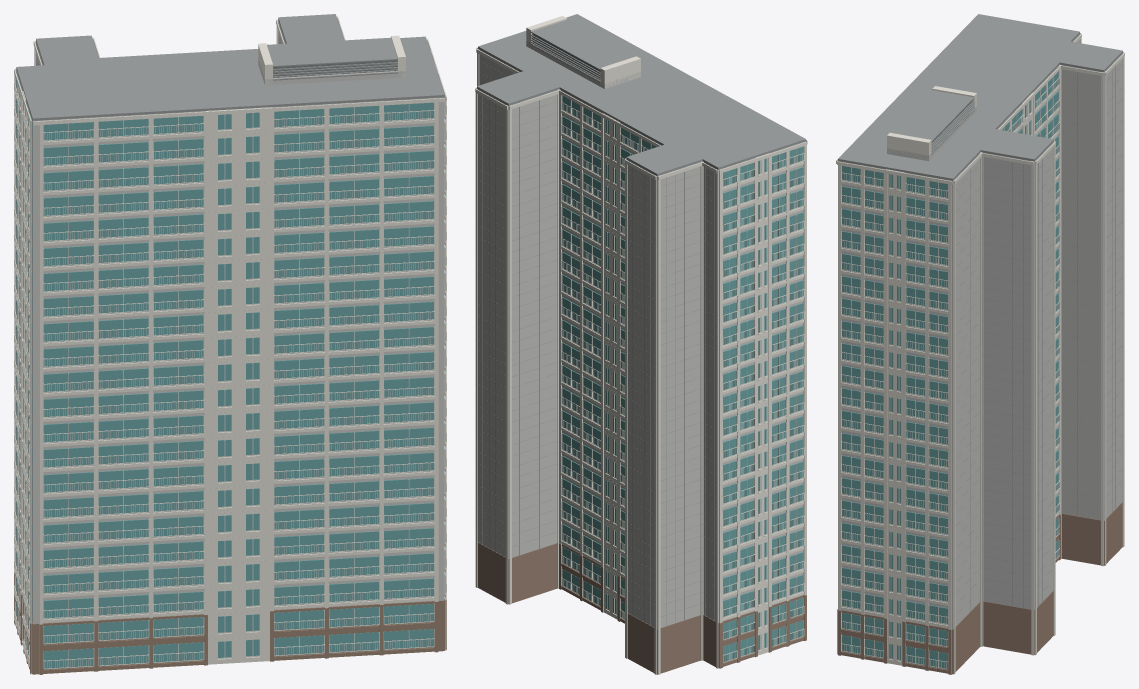
File: bespoke-jamsil-els-159.glb
The picture shows the model from 3 angles, left to right: view 1: azimuth 30°, elevation 25°; view 2: azimuth 150°, elevation 25°; view 3: azimuth 270°, elevation 25°; orthographic projection. The views are drawn at different scales.
Parts seen in each view (by area): view 1: Els159_editable_Els159_turquoise_balcony_glazing, Els159_white_exact_chunk_0, Els159_white_exact_chunk_2, Els159_editable_Els159_light_grey_solid_wall, Els159_white_exact_chunk_1, Els159_editable_Els159_modest_grey_flat_roof_caps, Els159_white_exact_chunk_3, Els159_editable_Els159_muted_ground_wall, Els159_white_exact_chunk_5, Els159_editable_Els159_narrow_charcoal_service_strips; view 2: Els159_editable_Els159_light_grey_solid_wall, Els159_editable_Els159_turquoise_balcony_glazing, Els159_editable_Els159_modest_grey_flat_roof_caps, Els159_white_exact_chunk_0, Els159_white_exact_chunk_4, Els159_editable_Els159_muted_ground_wall, Els159_white_exact_chunk_5; view 3: Els159_editable_Els159_light_grey_solid_wall, Els159_editable_Els159_turquoise_balcony_glazing, Els159_editable_Els159_modest_grey_flat_roof_caps, Els159_white_exact_chunk_3, Els159_white_exact_chunk_4, Els159_editable_Els159_muted_ground_wall, Els159_white_exact_chunk_5.
Boxes of the visible parts, x1=… form: Els159_editable_Els159_turquoise_balcony_glazing: x1=16, y1=74, x2=444, y2=668; Els159_white_exact_chunk_0: x1=14, y1=68, x2=271, y2=673; Els159_white_exact_chunk_2: x1=39, y1=105, x2=434, y2=674; Els159_editable_Els159_light_grey_solid_wall: x1=16, y1=20, x2=444, y2=639; Els159_white_exact_chunk_1: x1=43, y1=119, x2=204, y2=666; Els159_editable_Els159_modest_grey_flat_roof_caps: x1=16, y1=14, x2=444, y2=120; Els159_white_exact_chunk_3: x1=33, y1=65, x2=446, y2=650; Els159_editable_Els159_muted_ground_wall: x1=14, y1=573, x2=446, y2=674; Els159_white_exact_chunk_5: x1=33, y1=35, x2=405, y2=85; Els159_editable_Els159_narrow_charcoal_service_strips: x1=273, y1=60, x2=397, y2=76; Els159_editable_Els159_light_grey_solid_wall: x1=477, y1=41, x2=805, y2=632; Els159_editable_Els159_turquoise_balcony_glazing: x1=562, y1=95, x2=803, y2=661; Els159_editable_Els159_modest_grey_flat_roof_caps: x1=477, y1=14, x2=805, y2=627; Els159_white_exact_chunk_0: x1=701, y1=141, x2=807, y2=668; Els159_white_exact_chunk_4: x1=475, y1=47, x2=638, y2=619; Els159_editable_Els159_muted_ground_wall: x1=478, y1=542, x2=806, y2=674; Els159_white_exact_chunk_5: x1=526, y1=16, x2=703, y2=674; Els159_editable_Els159_light_grey_solid_wall: x1=838, y1=34, x2=1122, y2=643; Els159_editable_Els159_turquoise_balcony_glazing: x1=842, y1=71, x2=1058, y2=668; Els159_editable_Els159_modest_grey_flat_roof_caps: x1=838, y1=14, x2=1122, y2=623; Els159_white_exact_chunk_3: x1=836, y1=16, x2=975, y2=669; Els159_white_exact_chunk_4: x1=837, y1=84, x2=1059, y2=674; Els159_editable_Els159_muted_ground_wall: x1=837, y1=502, x2=1122, y2=674; Els159_white_exact_chunk_5: x1=887, y1=51, x2=1124, y2=566.
Size of the model in its own units: 43.46 by 62.6 by 31.9.
